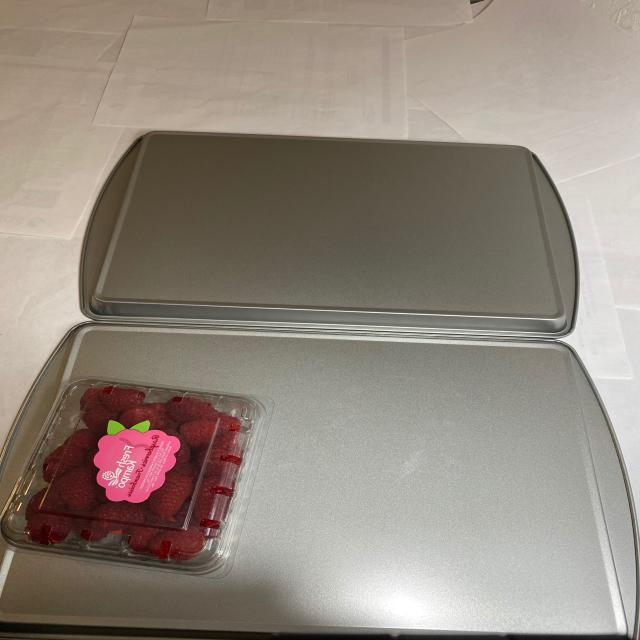raspberries: (24, 390, 250, 555)
